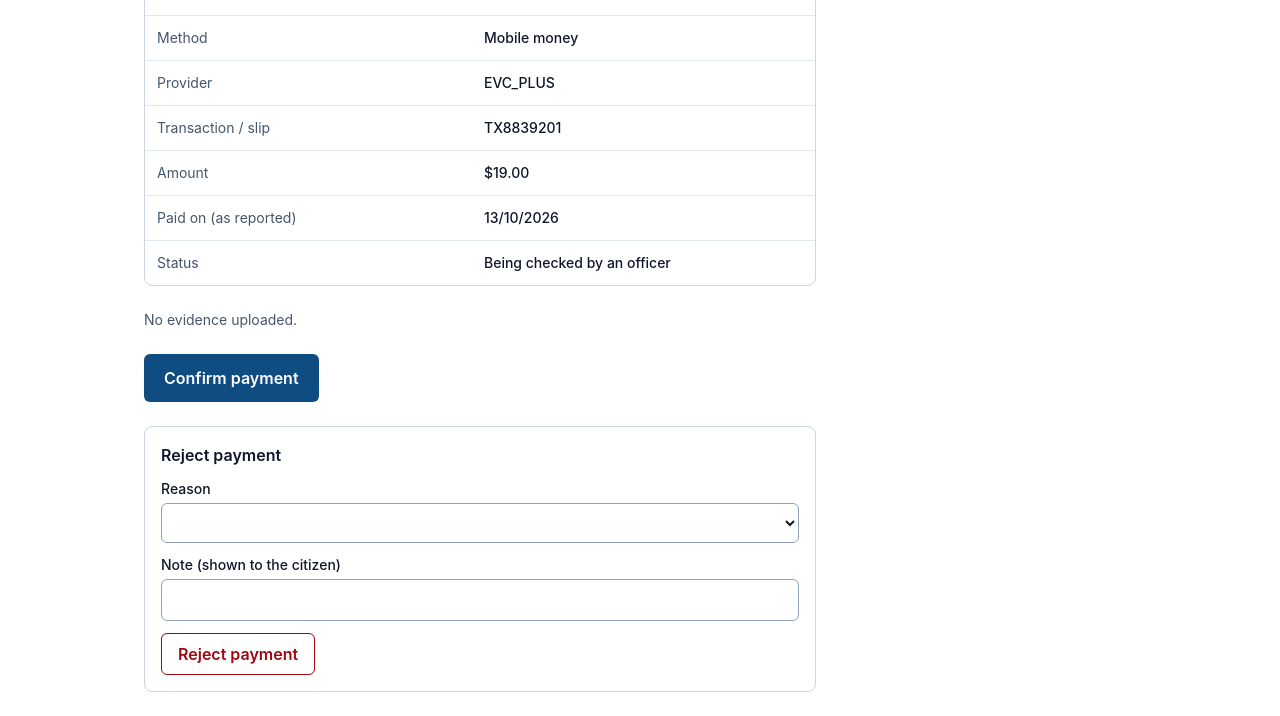
Test: officer payment review › should confirm a pending payment and report the receipt
(page scrolled)
Click the button "Confirm payment": [231, 378] box [144,354,318,402]
(page scrolled)
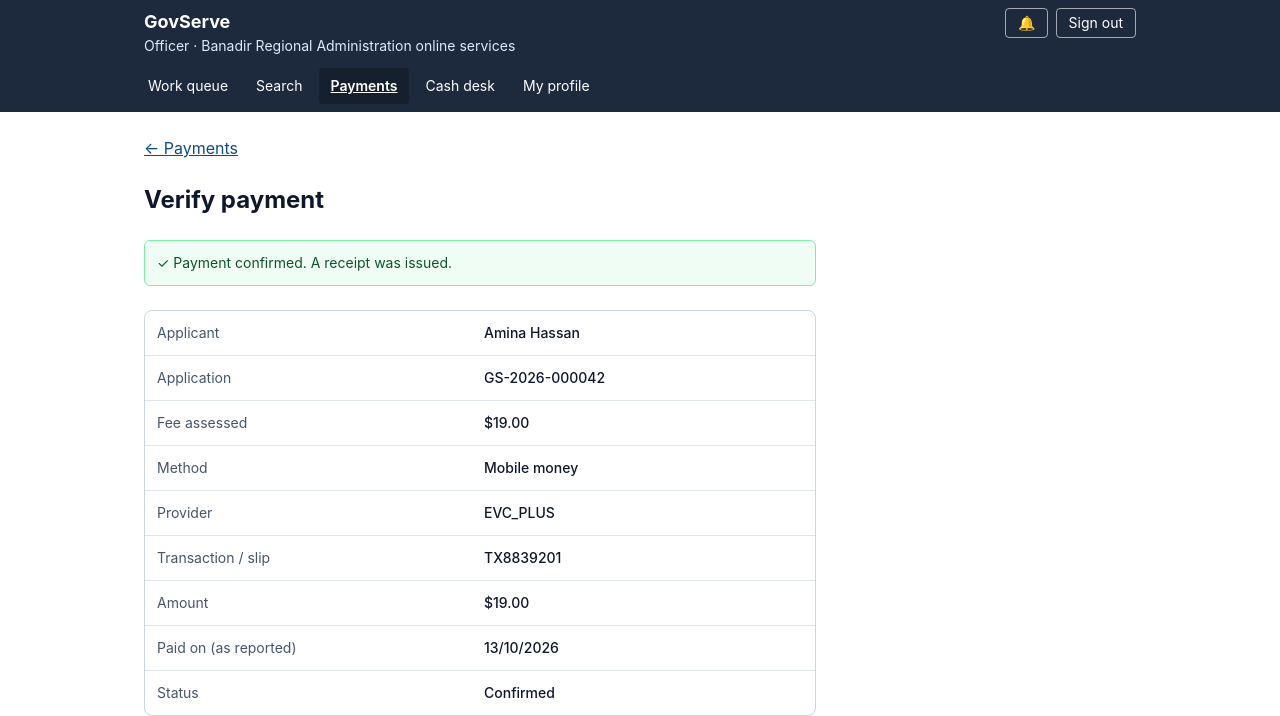
Now the text "Payment confirmed. A receipt was issued." is shown, box [173,254,452,271]
